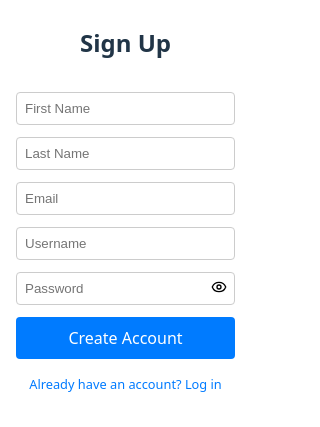
Scenario: Signup › shows validation errors for empty fields
The image size is (320, 427).
Click the button "Create Account" at (126, 338), box [16,317,235,359]
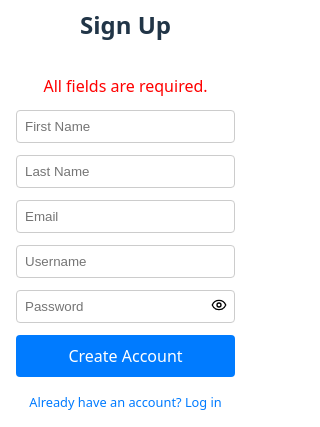
Check: the text "All fields are required." is shown, box [43,75,208,97]
